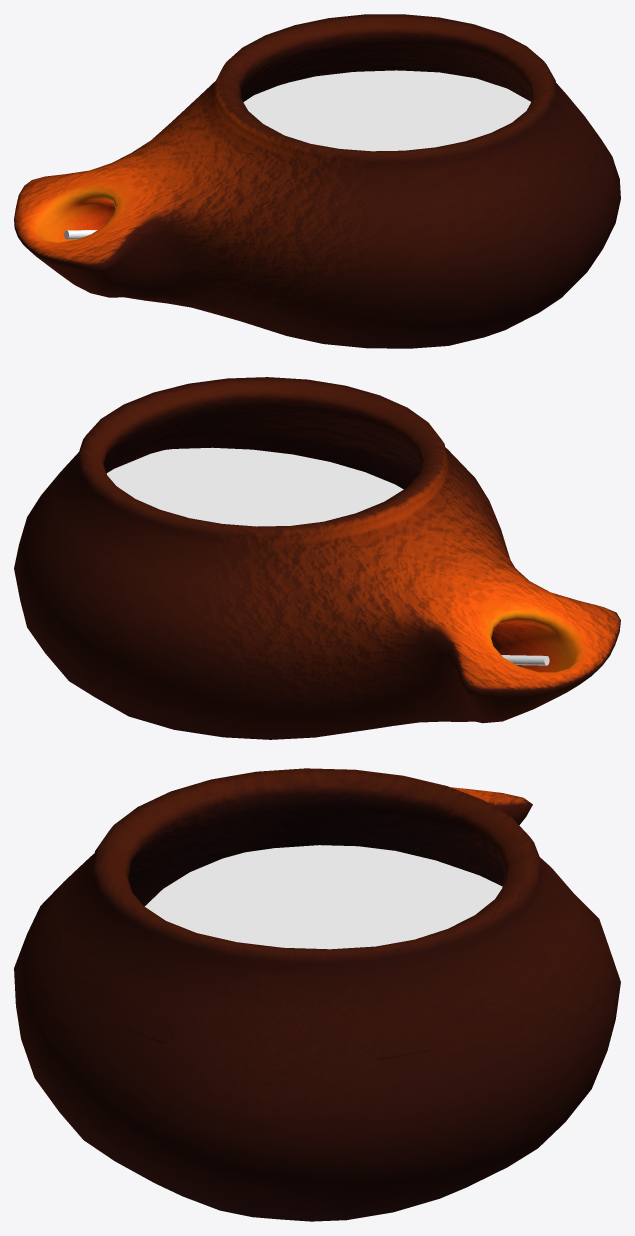
The model's file is perilla_oil-CBeKcU6t.glb.
3 renders of one model, top to bottom at view 1: azimuth 30°, elevation 25°; view 2: azimuth 150°, elevation 25°; view 3: azimuth 270°, elevation 25°, orthographic. The views are drawn at different scales.
Parts seen in each view (by area): view 1: Lamp, Circle; view 2: Lamp, Circle; view 3: Lamp, Circle.
Boxes of the visible parts, x1,y1,x2,y2 form: Lamp: (14, 14, 620, 348); Circle: (243, 70, 530, 151); Lamp: (14, 377, 620, 739); Circle: (106, 447, 403, 526); Lamp: (14, 768, 620, 1221); Circle: (145, 845, 502, 949).
Bounding box in the file's own units: 2.3 × 0.8548 × 1.71.
Materials: 3 (1 with a texture image).
